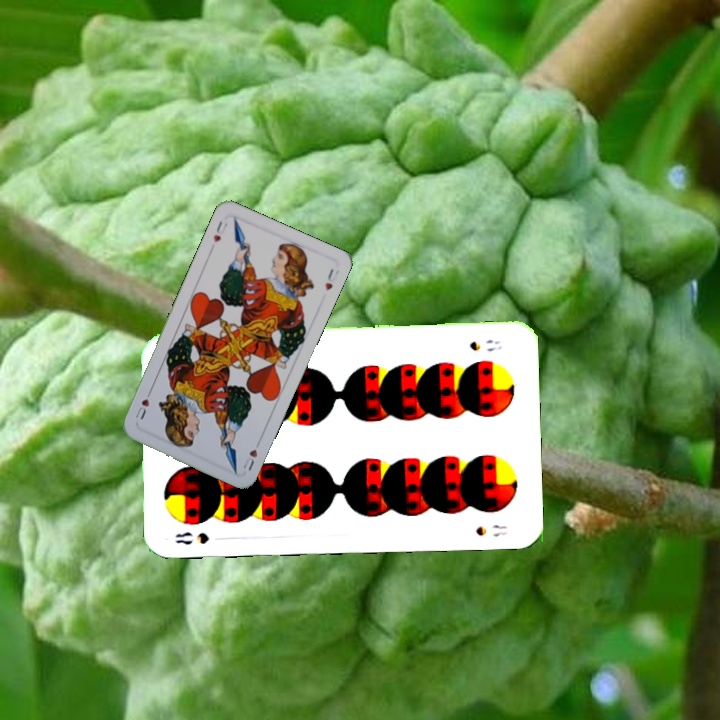HU: (239, 436, 263, 473), (209, 217, 230, 245)
S8: (171, 528, 211, 547), (466, 335, 504, 354)
